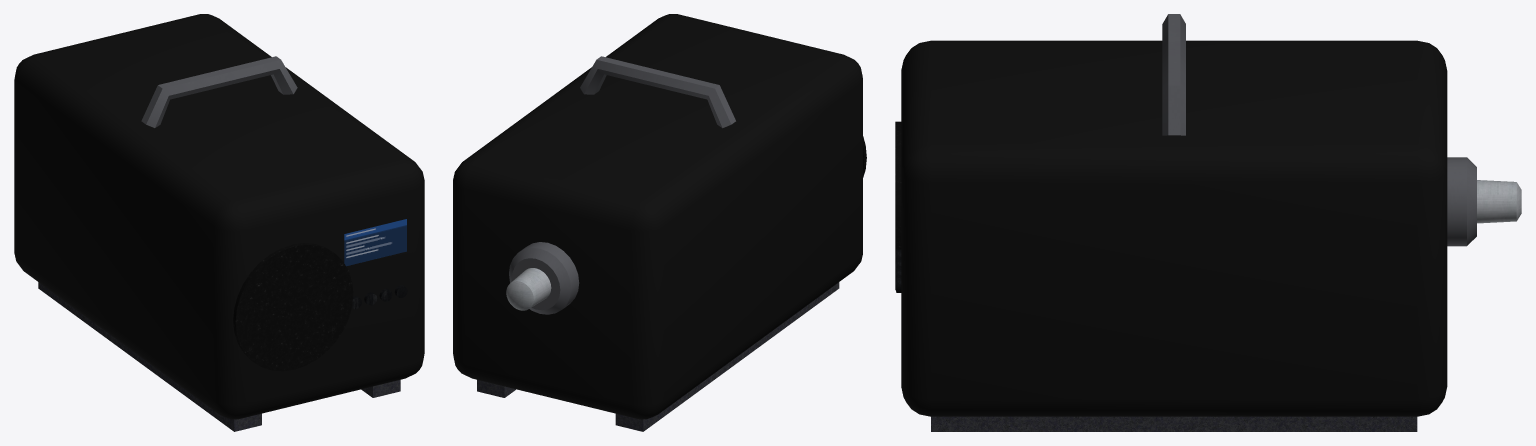
File: hazer.gltf
The picture shows the model from 3 angles, left to right: view 1: azimuth 30°, elevation 25°; view 2: azimuth 150°, elevation 25°; view 3: azimuth 270°, elevation 25°; orthographic projection. The views are drawn at different scales.
Visible parts, largest first — view 1: hazer; view 2: hazer; view 3: hazer.
Part boxes in pixels (x1,y1,x2,y2): hazer: (14,14,424,431); hazer: (453,14,866,431); hazer: (895,14,1521,431).
Size of the model in its own units: 0.3 by 0.3688 by 0.631.
7 materials, 7 textured.
